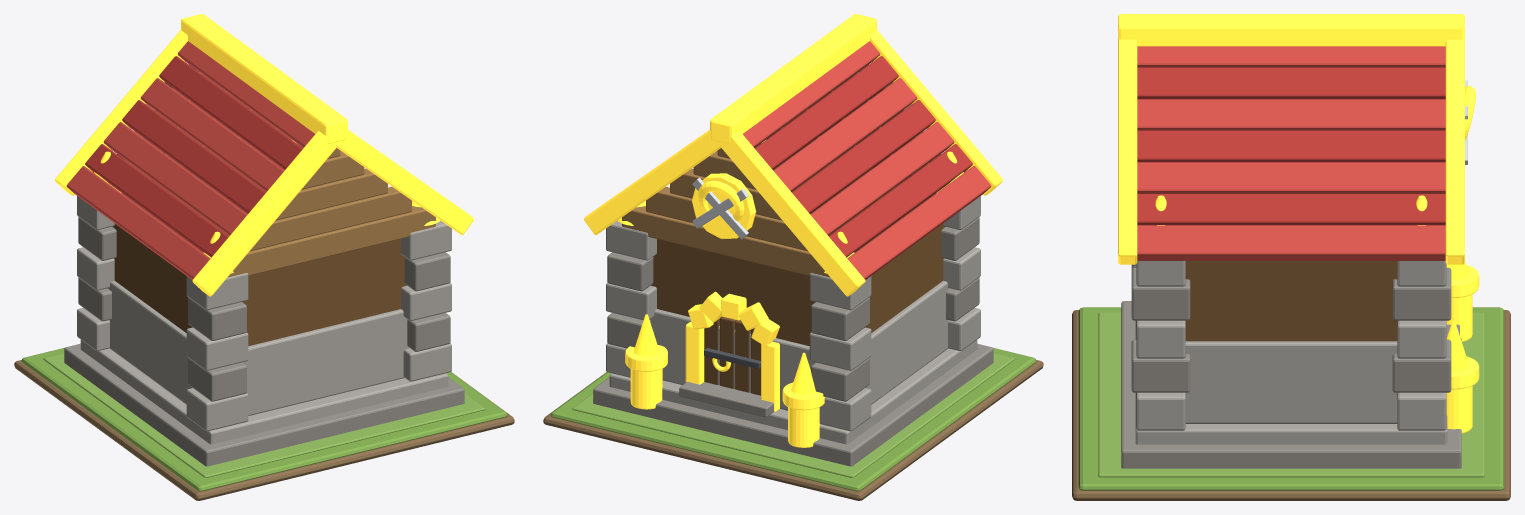
The model's file is hero_hall_lv6.glb.
The picture shows the model from 3 angles, left to right: view 1: azimuth 30°, elevation 25°; view 2: azimuth 150°, elevation 25°; view 3: azimuth 270°, elevation 25°; orthographic projection. The views are drawn at different scales.
Parts seen in each view (by area): view 1: HeroStoneWainscot, HeroHallCore, HeroPlinth1, Base_Grass, HeroPlinth2, RidgeBeam, Base_Inner, Base_Dirt, Bargeboard_-1_-1, Gable_-1_0, RoofSlope_-1_4, RoofSlope_-1_3 (+25 smaller); view 2: HeroHallCore, HeroStoneWainscot, HeroPlinth1, Base_Grass, RidgeBeam, Base_Inner, Base_Dirt, Bargeboard_1_-1, HeroPlinth2, RoofSlope_-1_4, RoofSlope_-1_3, RoofSlope_-1_6 (+40 smaller); view 3: HeroStoneWainscot, HeroHallCore, Base_Grass, RidgeBeam, RoofSlope_1_6, HeroPlinth1, RoofSlope_1_1, RoofSlope_1_3, Base_Inner, RoofSlope_1_2, RoofSlope_1_4, RoofSlope_1_5 (+20 smaller).
Boxes of the visible parts, x1,y1,x2,y2 form: HeroStoneWainscot: (108,280,409,415); HeroHallCore: (112,143,406,345); HeroPlinth1: (64,343,464,466); Base_Grass: (21,348,507,491); HeroPlinth2: (80,340,448,444); RidgeBeam: (181,14,347,143); Base_Inner: (43,353,485,477); Base_Dirt: (14,360,514,500); Bargeboard_-1_-1: (192,131,337,296); Gable_-1_0: (228,206,435,277); RoofSlope_-1_4: (103,122,247,235); RoofSlope_-1_3: (122,100,265,213); HeroHallCore: (651,143,945,345); HeroStoneWainscot: (650,280,949,410); HeroPlinth1: (593,343,993,466); Base_Grass: (550,348,1036,491); RidgeBeam: (710,14,876,143); Base_Inner: (572,353,1014,477); Base_Dirt: (543,360,1043,500); Bargeboard_1_-1: (720,131,865,296); HeroPlinth2: (609,340,977,444); RoofSlope_-1_4: (810,122,954,235); RoofSlope_-1_3: (792,100,935,213); RoofSlope_-1_6: (847,166,991,279); HeroStoneWainscot: (1185,341,1397,423); HeroHallCore: (1185,261,1397,341); Base_Grass: (1078,307,1504,490); RidgeBeam: (1118,14,1464,46); RoofSlope_1_6: (1137,225,1445,260); HeroPlinth1: (1121,301,1461,468); RoofSlope_1_1: (1137,67,1445,99); RoofSlope_1_3: (1137,130,1445,162); Base_Inner: (1098,312,1484,477); RoofSlope_1_2: (1137,99,1445,130); RoofSlope_1_4: (1137,162,1445,193); RoofSlope_1_5: (1137,194,1445,225).
Size of the model in its own units: 2.76 by 2.71 by 2.76.
